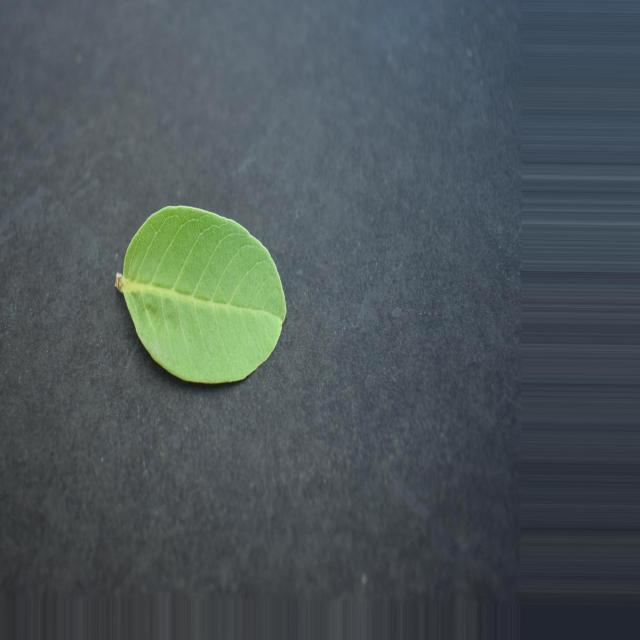Healthy: (116, 206, 286, 382)
